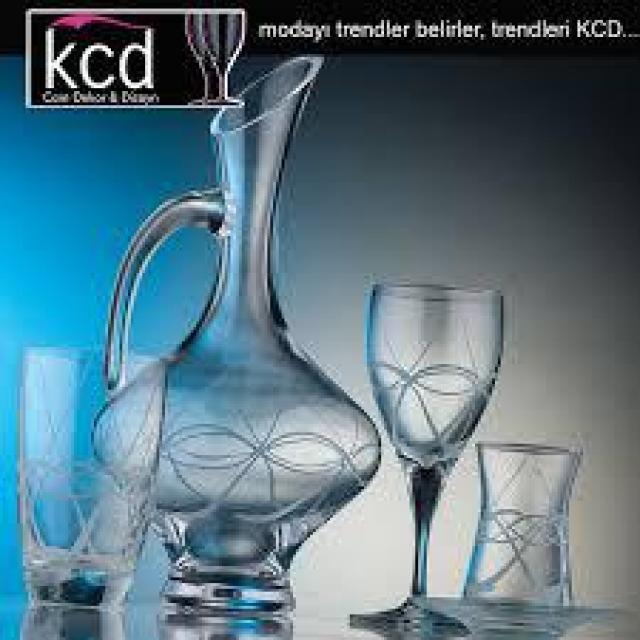glass: (105, 51, 384, 609), (346, 281, 506, 640), (418, 441, 629, 640), (17, 344, 168, 612)
